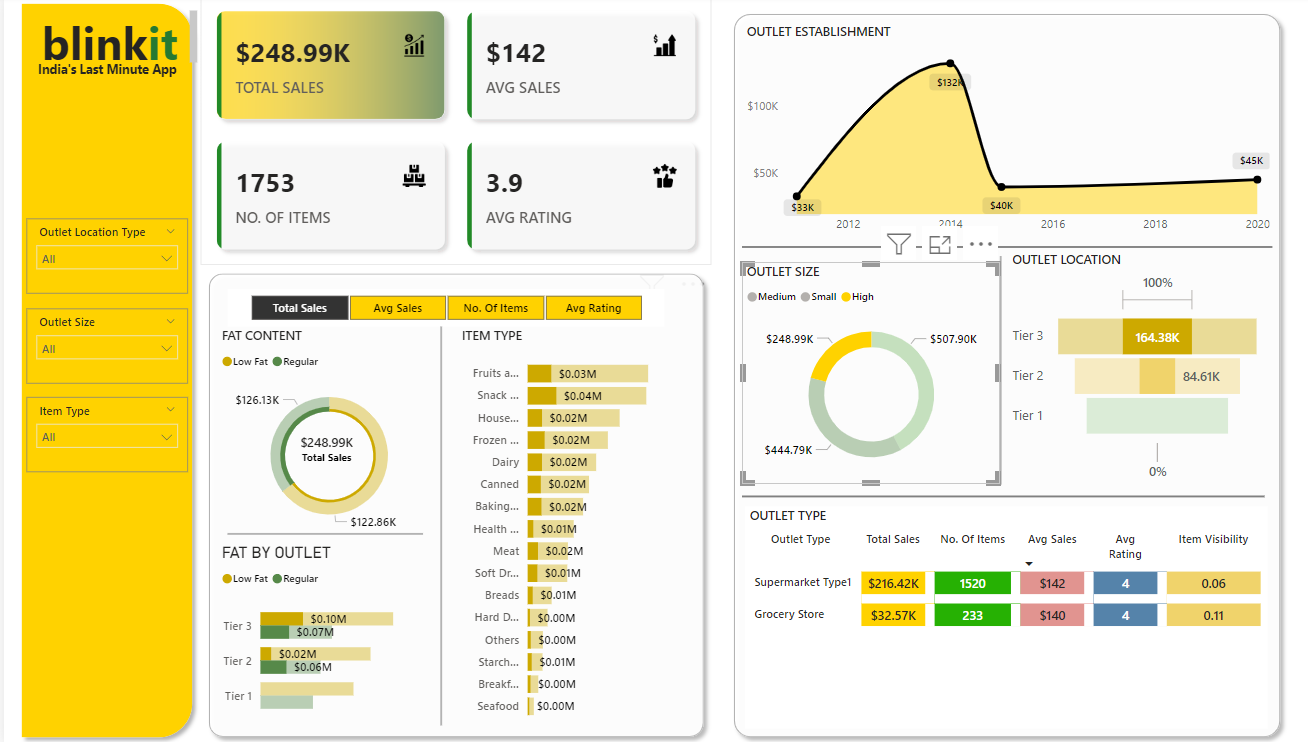

This screenshot's page, from the dashboard's own definition file:
{"tool":"powerbi","page":{"name":"Page 1","canvas":[1400,800],"ordinal":0},"visuals":[{"type":"shape","box":[10,0,200,800],"z":0},{"type":"textbox","box":[34.8,11.6,175.6,69.6],"z":1000},{"type":"textbox","box":[23.2,64.6,172.2,31.5],"z":2000},{"type":"cardVisual","fields":{"Data":["BlinkIT Grocery Data.Total Sales","BlinkIT Grocery Data.Avg Sales","BlinkIT Grocery Data.No. Of Items","BlinkIT Grocery Data.Avg Rating"]},"box":[210,0,545,288.3],"z":3000},{"type":"shape","box":[210,288.3,545,511.7],"z":4000},{"type":"donutChart","title":"FAT CONTENT","fields":{"Y":["BlinkIT Grocery Data.Total Sales"],"Category":["BlinkIT Grocery Data.Item Fat Content"]},"box":[226.7,353.3,238.3,230],"z":5000},{"type":"slicer","fields":{"Values":["Metrics.Metrics"]},"box":[238.5,313,465.4,39.7],"z":6000},{"type":"cardVisual","fields":{"Data":["BlinkIT Grocery Data.Total Sales"]},"box":[246.7,421.7,195,123.3],"z":7000},{"type":"clusteredBarChart","title":"FAT BY OUTLET","fields":{"Y":["BlinkIT Grocery Data.Total Sales"],"Category":["BlinkIT Grocery Data.Outlet Location Type"],"Series":["BlinkIT Grocery Data.Item Fat Content"]},"box":[226.7,583.3,238.3,198.3],"z":8000},{"type":"shape","box":[238.3,563.3,208.3,20],"z":9000},{"type":"shape","box":[446.7,353.3,36.7,425],"z":10000},{"type":"barChart","title":"ITEM TYPE","fields":{"Y":["BlinkIT Grocery Data.Total Sales"],"Category":["BlinkIT Grocery Data.Item Type"]},"box":[483.3,353.3,248.3,428.3],"z":11000},{"type":"shape","box":[768.3,11.7,600,788.3],"z":12000},{"type":"lineChart","title":"OUTLET ESTABLISHMENT","fields":{"Category":["BlinkIT Grocery Data.Outlet Establishment Year"],"Y":["BlinkIT Grocery Data.Total Sales"]},"box":[786.7,28.3,566.7,233.3],"z":13000},{"type":"shape","box":[786.7,250,565,38.3],"z":14000},{"type":"donutChart","title":"OUTLET SIZE","fields":{"Category":["BlinkIT Grocery Data.Outlet Size"],"Y":["BlinkIT Grocery Data.Total Sales"]},"box":[786.7,285,275,236.7],"z":15000},{"type":"shape","box":[1043.3,278.3,36.7,243.3],"z":16000},{"type":"funnel","title":"OUTLET LOCATION","fields":{"Y":["Sum(BlinkIT Grocery Data.Sales)"],"Category":["BlinkIT Grocery Data.Outlet Location Type"]},"box":[1068.3,271.7,275,250],"z":17000},{"type":"shape","box":[786.7,503.3,556.7,61.7],"z":18000},{"type":"pivotTable","title":"OUTLET TYPE","fields":{"Rows":["BlinkIT Grocery Data.Outlet Type"],"Values":["BlinkIT Grocery Data.Total Sales","BlinkIT Grocery Data.No. Of Items","BlinkIT Grocery Data.Avg Sales","BlinkIT Grocery Data.Avg Rating","Avg(BlinkIT Grocery Data.Item Visibility)"]},"box":[790,545,556.7,236.7],"z":19000},{"type":"slicer","fields":{"Values":["BlinkIT Grocery Data.Outlet Location Type"]},"box":[23.3,238.3,171.7,80],"z":19001},{"type":"slicer","fields":{"Values":["BlinkIT Grocery Data.Outlet Size"]},"box":[23.3,333.3,171.7,80],"z":19002},{"type":"slicer","fields":{"Values":["BlinkIT Grocery Data.Item Type"]},"box":[23.3,428.3,171.7,80],"z":19003}]}

Visuals, with their boxes in screenshot pixels (x1, y1, x2, y2), scaled from the page's 1400x800 canvas onto the 1308x742 screenshot:
shape: <region>9, 0, 196, 741</region>
textbox: <region>33, 11, 197, 75</region>
textbox: <region>22, 60, 183, 89</region>
cardVisual - BlinkIT Grocery Data.Total Sales x BlinkIT Grocery Data.Avg Sales: <region>196, 0, 705, 267</region>
shape: <region>196, 267, 705, 741</region>
"FAT CONTENT" donutChart: <region>212, 328, 434, 541</region>
slicer - Metrics.Metrics: <region>223, 290, 658, 327</region>
cardVisual - BlinkIT Grocery Data.Total Sales: <region>230, 391, 413, 505</region>
"FAT BY OUTLET" clusteredBarChart: <region>212, 541, 434, 725</region>
shape: <region>223, 522, 417, 541</region>
shape: <region>417, 328, 452, 722</region>
"ITEM TYPE" barChart: <region>452, 328, 684, 725</region>
shape: <region>718, 11, 1278, 741</region>
"OUTLET ESTABLISHMENT" lineChart: <region>735, 26, 1264, 243</region>
shape: <region>735, 232, 1263, 267</region>
"OUTLET SIZE" donutChart: <region>735, 264, 992, 484</region>
shape: <region>975, 258, 1009, 484</region>
"OUTLET LOCATION" funnel: <region>998, 252, 1255, 484</region>
shape: <region>735, 467, 1255, 524</region>
"OUTLET TYPE" pivotTable: <region>738, 505, 1258, 725</region>
slicer - BlinkIT Grocery Data.Outlet Location Type: <region>22, 221, 182, 295</region>
slicer - BlinkIT Grocery Data.Outlet Size: <region>22, 309, 182, 383</region>
slicer - BlinkIT Grocery Data.Item Type: <region>22, 397, 182, 471</region>
